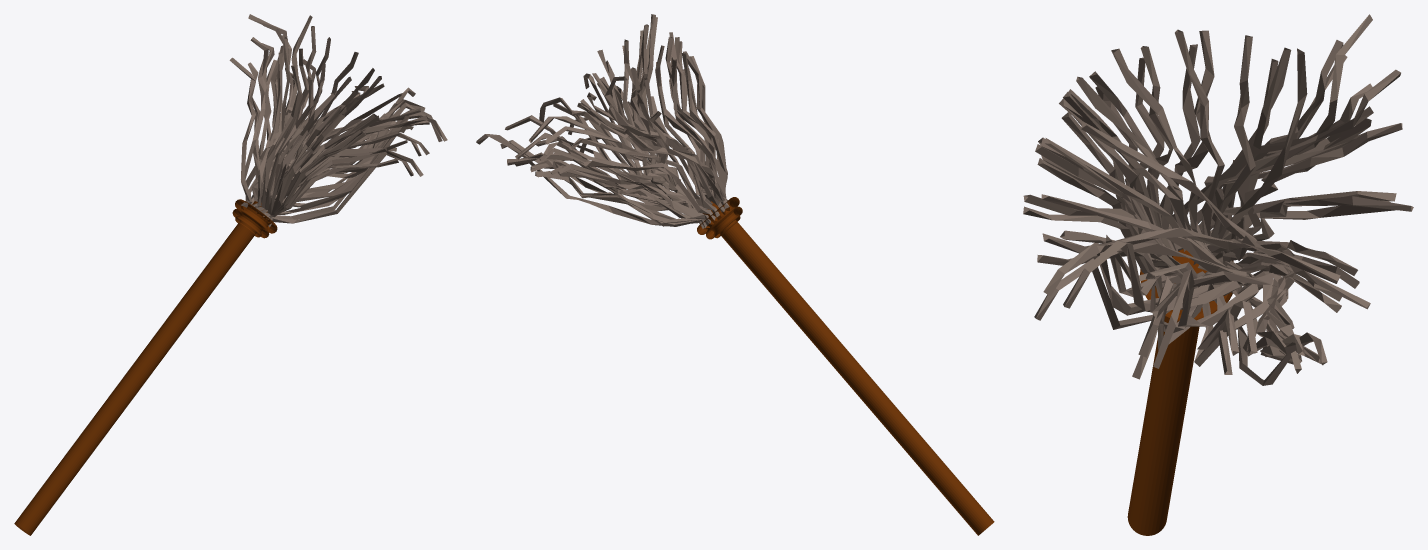
The model's file is mop.fbx.
The picture shows the model from 3 angles, left to right: view 1: azimuth 30°, elevation 25°; view 2: azimuth 150°, elevation 25°; view 3: azimuth 270°, elevation 25°; orthographic projection. The views are drawn at different scales.
Visible parts, largest first — view 1: Moop; view 2: Moop; view 3: Moop.
Part boxes in pixels (x1,y1,x2,y2): Moop: [14, 14, 447, 535]; Moop: [476, 14, 994, 535]; Moop: [1023, 14, 1413, 535].
Bounding box in the file's own units: 920 × 366 × 820.
1 material, 1 textured.
